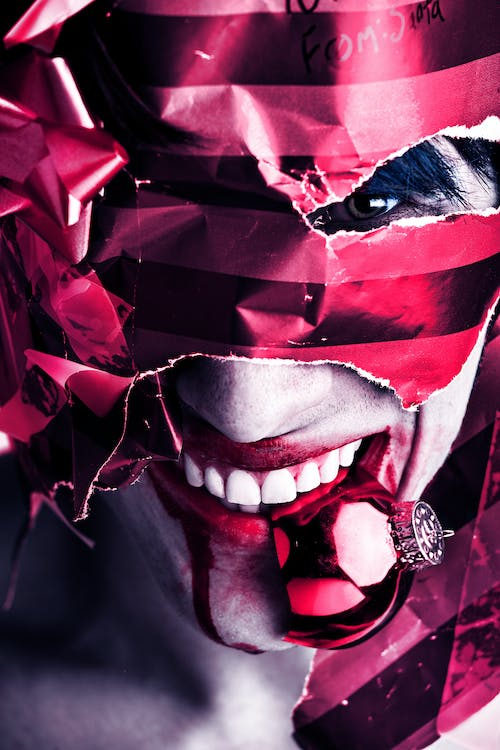blood: (145, 421, 412, 658)
